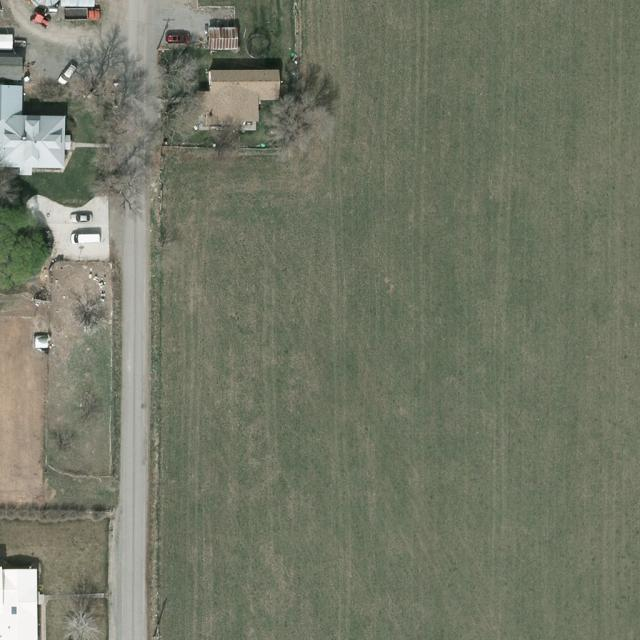vehicle: (56, 61, 78, 88), (64, 8, 102, 22), (165, 32, 192, 46), (70, 234, 102, 244), (70, 213, 94, 223)
